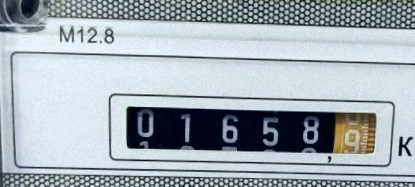0: (134, 107, 155, 137)
1: (177, 111, 195, 143)
5: (259, 114, 281, 146)
6: (219, 110, 240, 144)
8: (300, 112, 321, 144)
9: (340, 127, 361, 155)
screen: (98, 84, 399, 173)
